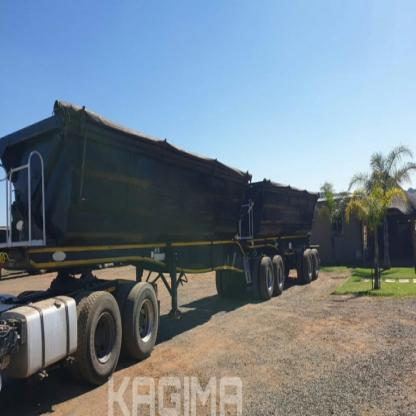dump_truck: (3, 98, 321, 387)
